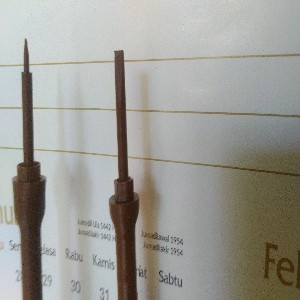obeng: (107, 48, 140, 300)
solder: (10, 35, 47, 300)
